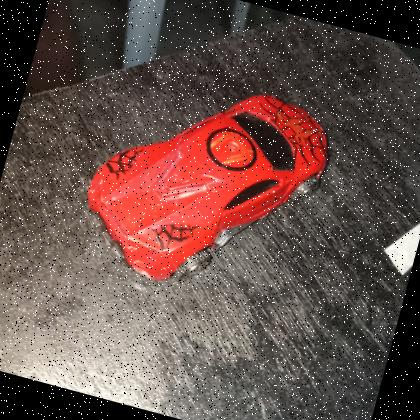Car: (86, 95, 329, 283)
